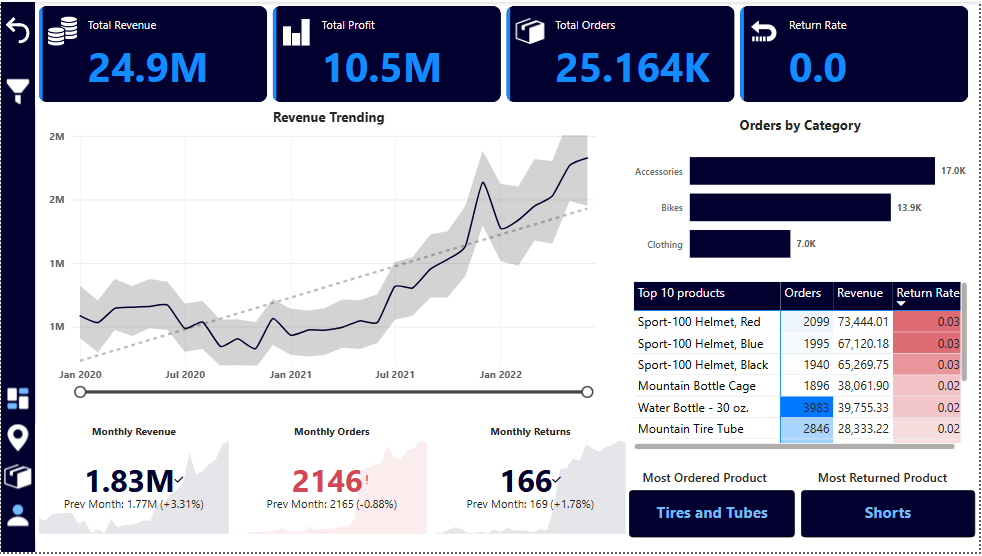

The page's visual inventory and layout, read from the dashboard file:
{"tool":"powerbi","page":{"name":"Exec Dashboard","canvas":[1280,720],"ordinal":0},"visuals":[{"type":"shape","title":"Left Nav Background","box":[0,0,45,720],"z":0},{"type":"actionButton","box":[0,542.4,44.3,57.1],"z":0,"group":"g1"},{"type":"lineChart","title":"Revenue Trending","fields":{"Category":["Calendar Lookup.Start of Month"],"Y":["Measure Table.Total Revenue"]},"box":[57.6,136.8,743,384.5],"z":1000},{"type":"actionButton","box":[0,491.4,44.3,57.1],"z":1000,"group":"g1"},{"type":"kpi","title":"Monthly Revenue","fields":{"Goal":["Measure Table.Previous Month Revenue"],"Indicator":["Measure Table.Total Revenue"],"TrendLine":["Calendar Lookup.Start of Month"]},"box":[45,552.5,258.8,148.8],"z":2000},{"type":"actionButton","box":[0,644.3,44.3,57.1],"z":2000,"group":"g1"},{"type":"kpi","title":"Monthly Orders","fields":{"Goal":["Measure Table.Previous Month Orders"],"Indicator":["Measure Table.Total Orders"],"TrendLine":["Calendar Lookup.Start of Month"]},"box":[303.8,552.5,258.8,148.8],"z":3000},{"type":"actionButton","box":[0,593.3,44.3,57.1],"z":3000,"group":"g1"},{"type":"kpi","title":"Monthly Returns","fields":{"Goal":["Measure Table.Previous Month Returns"],"Indicator":["Measure Table.Total Returns"],"TrendLine":["Calendar Lookup.Start of Month"]},"box":[562.5,552.5,260,148.8],"z":4000},{"type":"clusteredBarChart","title":"Orders by Category","fields":{"Category":["Product Categories Lookup.CategoryName"],"Y":["Measure Table.Total Orders"]},"box":[822.9,148.6,445.7,212.9],"z":5000},{"type":"pivotTable","fields":{"Rows":["Product Lookup.ProductName"],"Values":["Measure Table.Total Orders","Measure Table.Total Revenue","Measure Table.Return Rate"]},"box":[822.9,361.4,447.1,230],"z":6000},{"type":"card","fields":{"Values":["Min(Product Subcategories Lookup.SubcategoryName)"]},"box":[822.2,639.4,217.4,61.9],"z":7000},{"type":"textbox","box":[811.2,606.2,218.8,41.2],"z":8000},{"type":"card","fields":{"Values":["Min(Product Subcategories Lookup.SubcategoryName)"]},"box":[1046.9,639.4,227.5,61.9],"z":9000},{"type":"textbox","box":[1040,606.2,228.8,41.2],"z":10000},{"type":"cardVisual","fields":{"Data":["Measure Table.Total Revenue","Measure Table.Total Profit","Measure Table.Total Orders","Measure Table.Return Rate"]},"box":[44.6,0,1229.8,136.8],"z":11000},{"type":"actionButton","box":[0,10,44.3,51.4],"z":12000},{"type":"group","id":"g1","title":"Navigation Buttons","box":[0,491.4,44.3,210],"z":13000},{"type":"actionButton","box":[0,85.7,44.3,62.9],"z":14000}]}

Visuals, with their boxes on the page's 1280x720 design canvas (x1, y1, x2, y2). These are canvas units, not pixel positions in the 982x556 screenshot, which may show the page scaled, cropped or inside an application window:
"Left Nav Background" shape: {"left": 0, "top": 0, "right": 45, "bottom": 720}
actionButton: {"left": 0, "top": 542, "right": 44, "bottom": 600}
"Revenue Trending" lineChart: {"left": 58, "top": 137, "right": 801, "bottom": 521}
actionButton: {"left": 0, "top": 491, "right": 44, "bottom": 548}
"Monthly Revenue" kpi: {"left": 45, "top": 552, "right": 304, "bottom": 701}
actionButton: {"left": 0, "top": 644, "right": 44, "bottom": 701}
"Monthly Orders" kpi: {"left": 304, "top": 552, "right": 563, "bottom": 701}
actionButton: {"left": 0, "top": 593, "right": 44, "bottom": 650}
"Monthly Returns" kpi: {"left": 562, "top": 552, "right": 822, "bottom": 701}
"Orders by Category" clusteredBarChart: {"left": 823, "top": 149, "right": 1269, "bottom": 362}
pivotTable - Product Lookup.ProductName x Measure Table.Total Orders: {"left": 823, "top": 361, "right": 1270, "bottom": 591}
card - Min(Product Subcategories Lookup.SubcategoryName): {"left": 822, "top": 639, "right": 1040, "bottom": 701}
textbox: {"left": 811, "top": 606, "right": 1030, "bottom": 647}
card - Min(Product Subcategories Lookup.SubcategoryName): {"left": 1047, "top": 639, "right": 1274, "bottom": 701}
textbox: {"left": 1040, "top": 606, "right": 1269, "bottom": 647}
cardVisual - Measure Table.Total Revenue x Measure Table.Total Profit: {"left": 45, "top": 0, "right": 1274, "bottom": 137}
actionButton: {"left": 0, "top": 10, "right": 44, "bottom": 61}
"Navigation Buttons" group: {"left": 0, "top": 491, "right": 44, "bottom": 701}
actionButton: {"left": 0, "top": 86, "right": 44, "bottom": 149}
